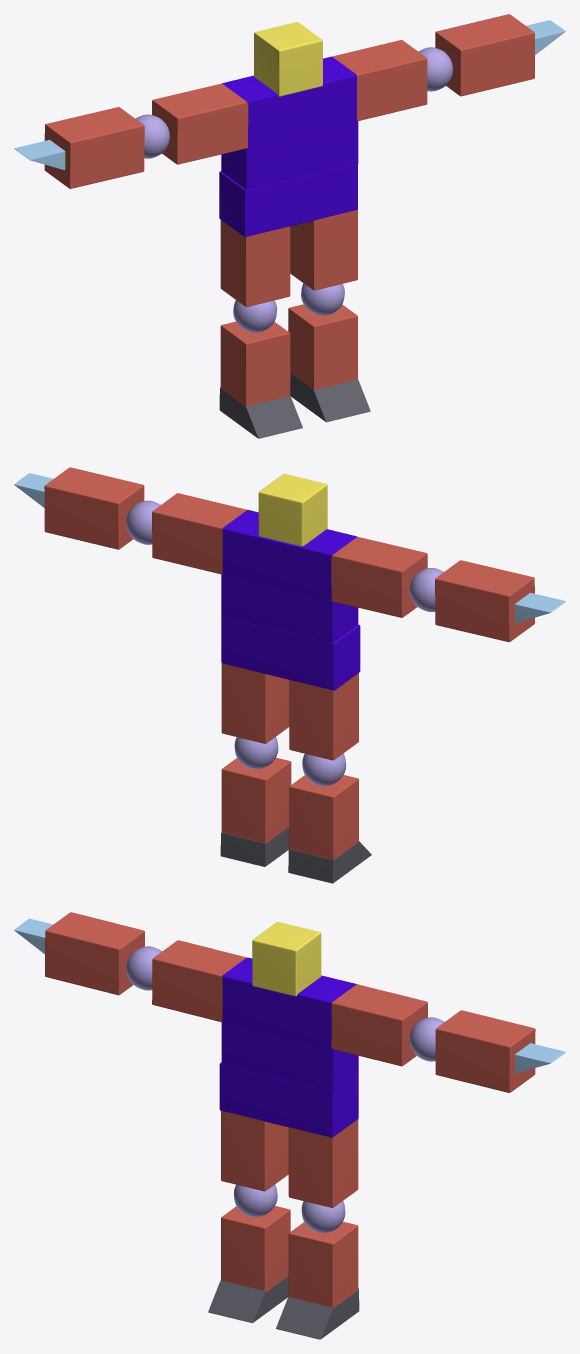
Rendered from Character_L.fbx.
3 views of the same model, one above another, from view 1: azimuth 30°, elevation 25°; view 2: azimuth 150°, elevation 25°; view 3: azimuth 330°, elevation 25° (orthographic).
Visible parts, largest first — view 1: Character_l_ingame1; view 2: Character_l_ingame1; view 3: Character_l_ingame1.
Boxes of the visible parts, x1,y1,x2,y2 form: Character_l_ingame1: [14, 14, 565, 438]; Character_l_ingame1: [14, 467, 565, 883]; Character_l_ingame1: [14, 912, 565, 1339].
Size of the model in its own units: 71.4 by 47.28 by 9.03.
